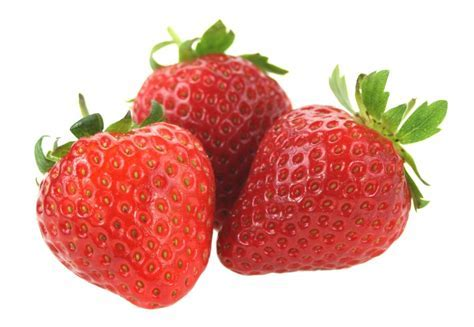strawberry: (35, 114, 217, 310), (215, 101, 416, 277), (132, 46, 298, 231)
